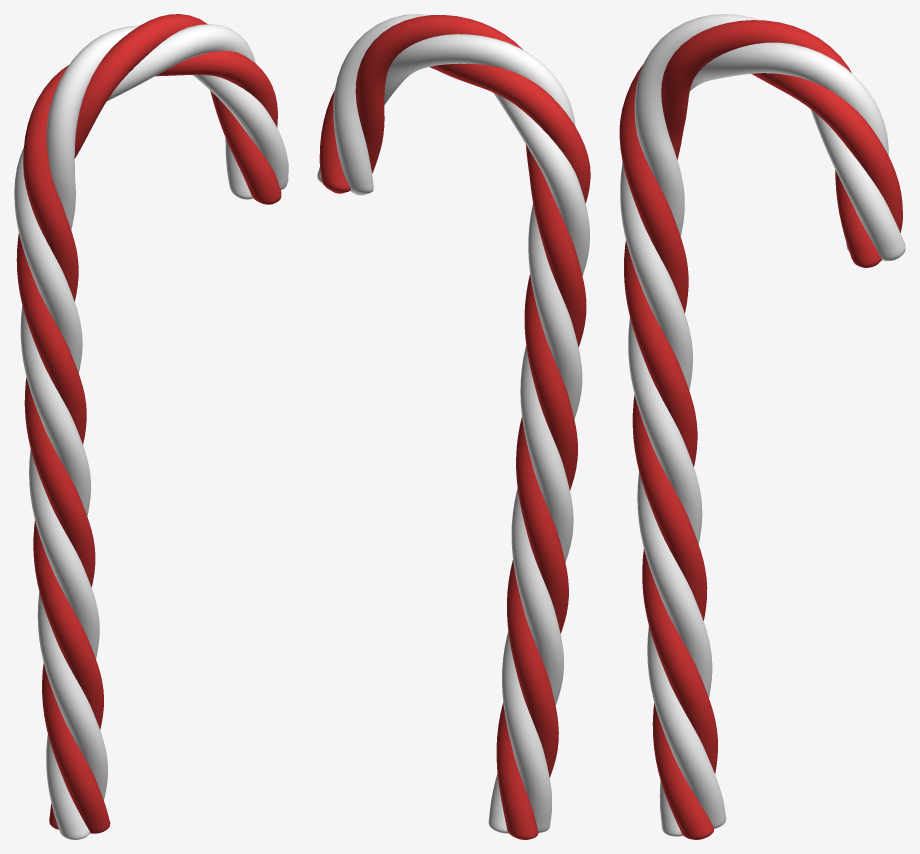
The model's file is striped_candy_cane_1241.obj.
The picture shows the model from 3 angles, left to right: view 1: azimuth 30°, elevation 25°; view 2: azimuth 150°, elevation 25°; view 3: azimuth 330°, elevation 25°; orthographic projection. The views are drawn at different scales.
Visible parts, largest first — view 1: striped_candy_cane_1241; view 2: striped_candy_cane_1241; view 3: striped_candy_cane_1241.
Part boxes in pixels (left/top/right/bottom): striped_candy_cane_1241: left=14, top=14, right=288, bottom=839; striped_candy_cane_1241: left=317, top=14, right=590, bottom=839; striped_candy_cane_1241: left=619, top=14, right=905, bottom=839.
Bounding box in the file's own units: 5.06 × 14.37 × 1.08.
Materials: 1 (1 with a texture image).
